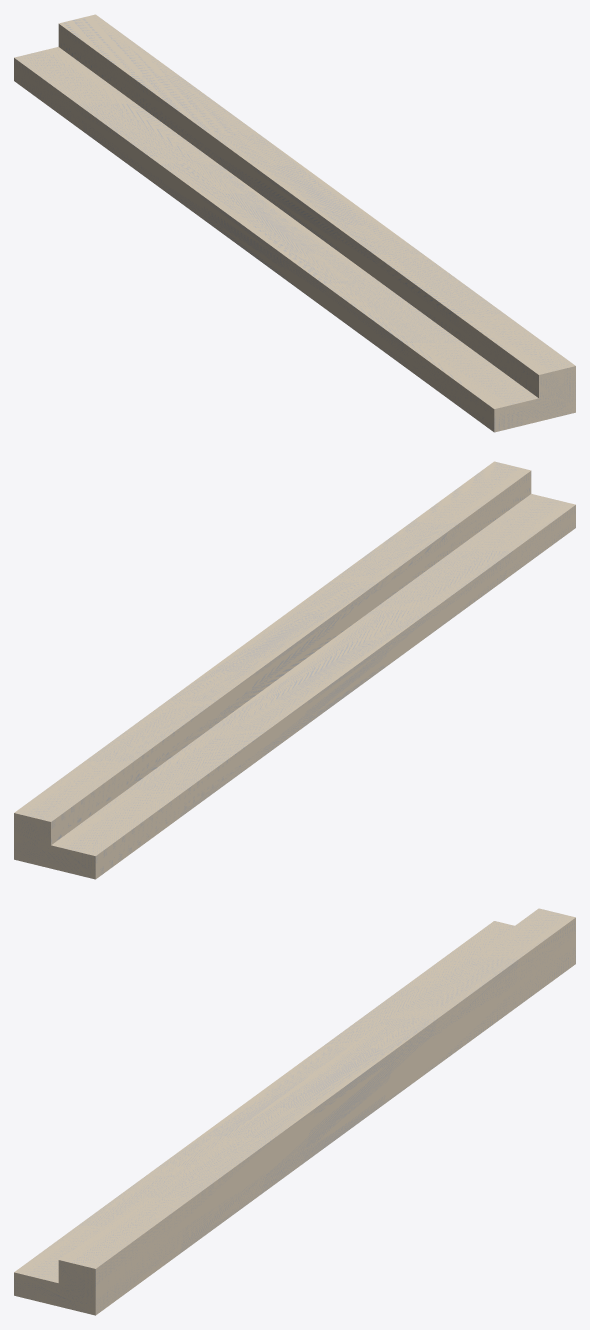
File: original-66.obj
The picture shows the model from 3 angles, top to bottom: view 1: azimuth 30°, elevation 25°; view 2: azimuth 150°, elevation 25°; view 3: azimuth 330°, elevation 25°; orthographic projection.
Parts seen in each view (by area): view 1: Component_7_13/Component_7_1_2/mesh13/mesh13-geometry#mesh13-geo; view 2: Component_7_13/Component_7_1_2/mesh13/mesh13-geometry#mesh13-geo; view 3: Component_7_13/Component_7_1_2/mesh13/mesh13-geometry#mesh13-geo.
Boxes of the visible parts, x1=… form: Component_7_13/Component_7_1_2/mesh13/mesh13-geometry#mesh13-geo: x1=14, y1=14, x2=575, y2=432; Component_7_13/Component_7_1_2/mesh13/mesh13-geometry#mesh13-geo: x1=14, y1=461, x2=575, y2=879; Component_7_13/Component_7_1_2/mesh13/mesh13-geometry#mesh13-geo: x1=14, y1=908, x2=575, y2=1315.
Bounding box in the file's own units: 0.0241 × 0.0131 × 0.2454.
